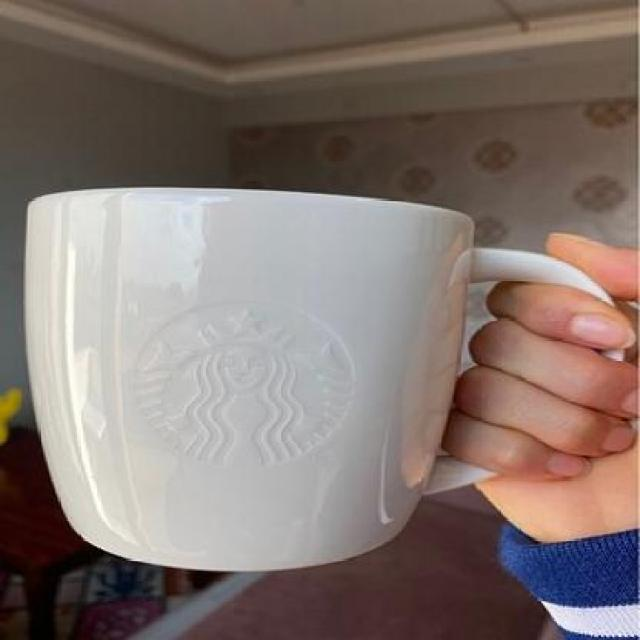taza: (23, 187, 628, 575)
